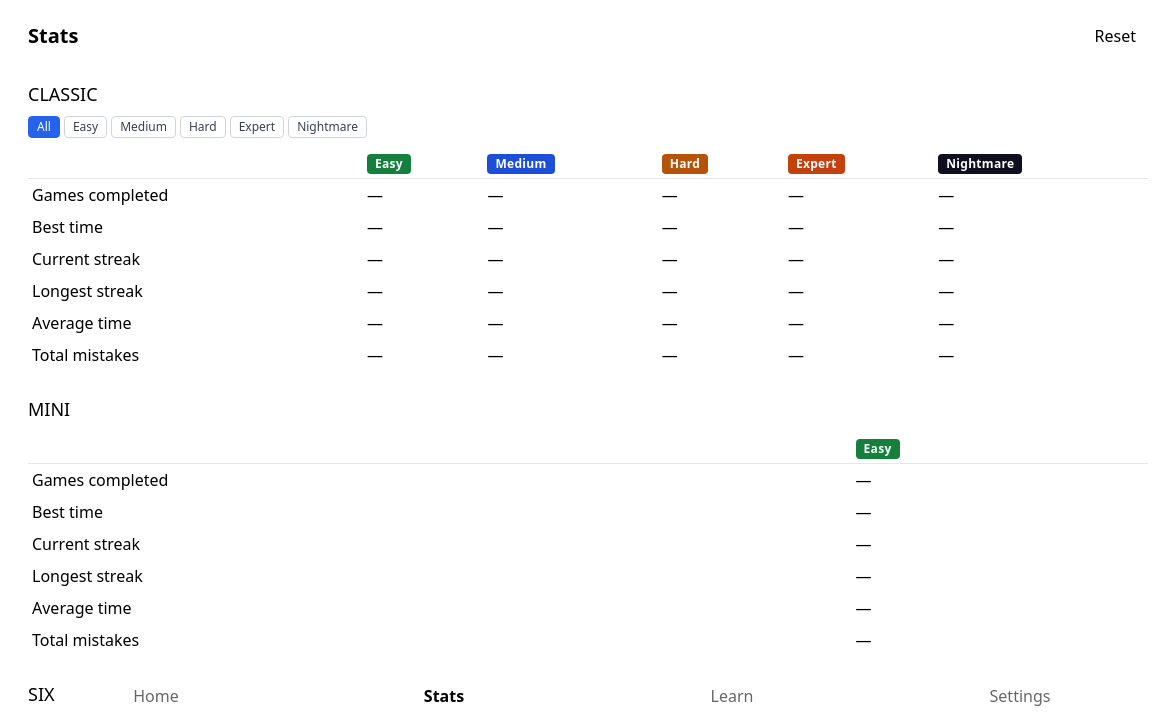
Test: App navigation › navigates via the bottom tab bar back to Home
The image size is (1176, 720).
Check: the button with test id "stats-reset" is shown, box [1082,16,1148,56]
Click the button with test id "tab-home". click: (156, 696)
box: [12,672,300,719]
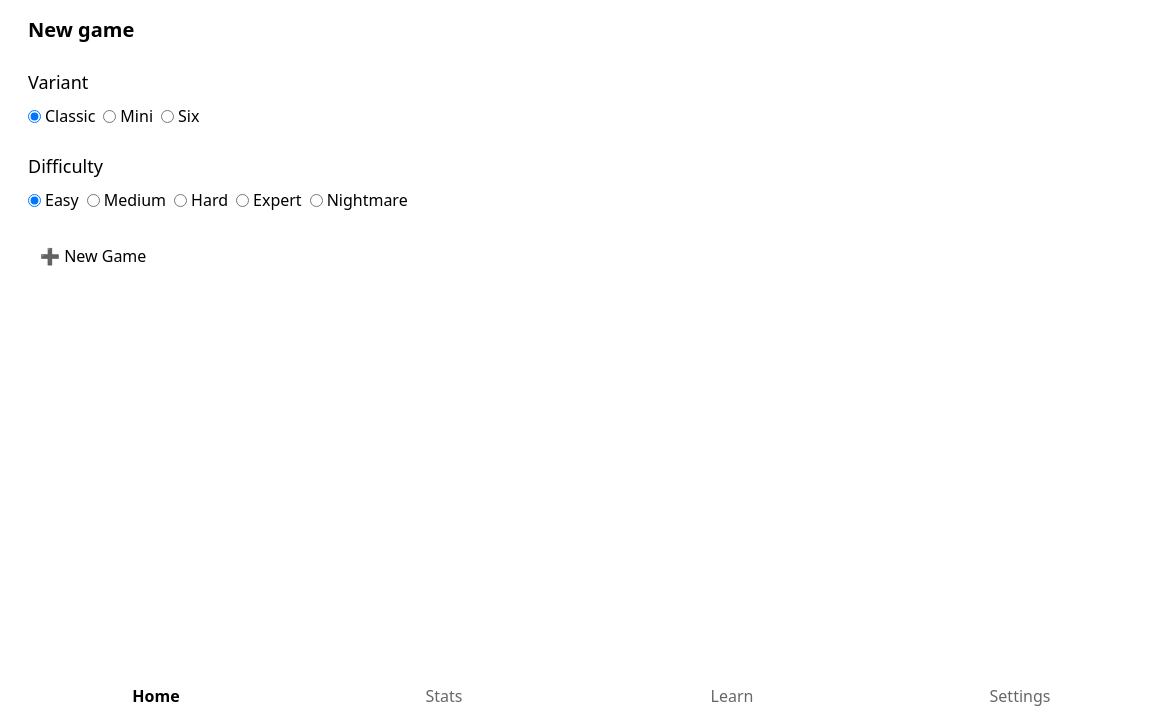
Check: the button with test id "home-new-game" is shown, box [28,236,158,276]
